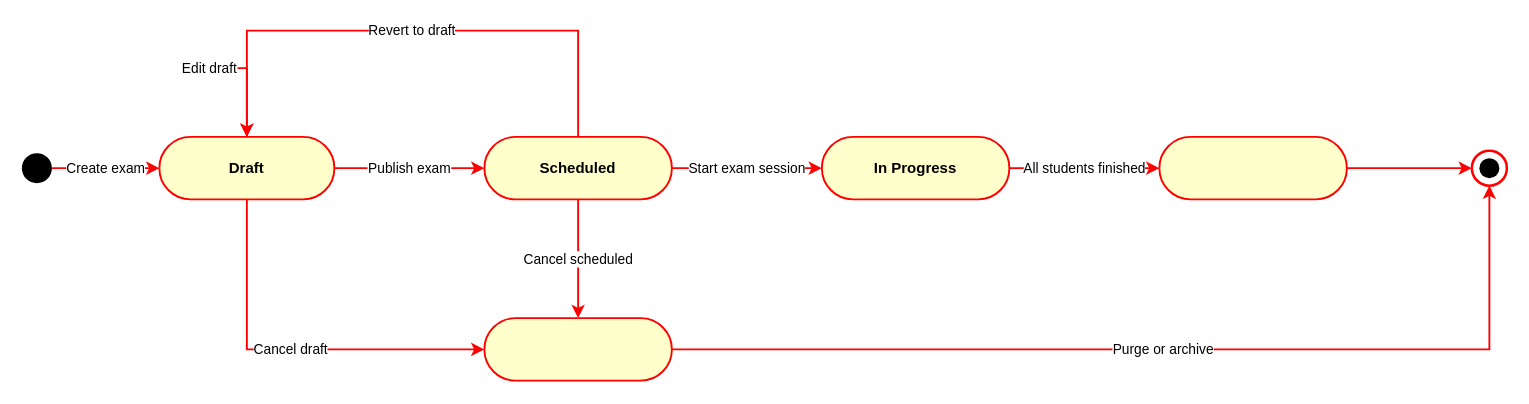
Image size: 1529x404. Some labels were removed from this diagram. Here are the shapes that lost their labels. From the top down, the centre of each, then its label:
At point (1252, 167): "Completed".
At point (577, 349): "Cancelled".
